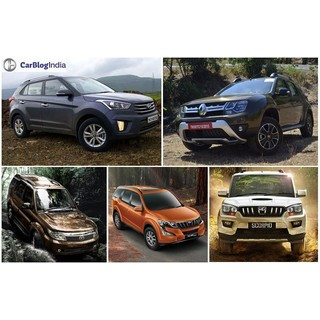car: (177, 73, 318, 155), (9, 74, 157, 152), (215, 170, 312, 256), (8, 173, 98, 259), (112, 185, 207, 247)
